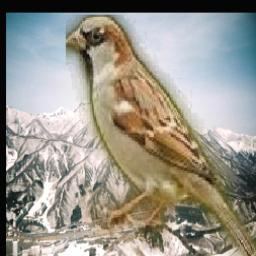Sparrow: (66, 15, 256, 256)
